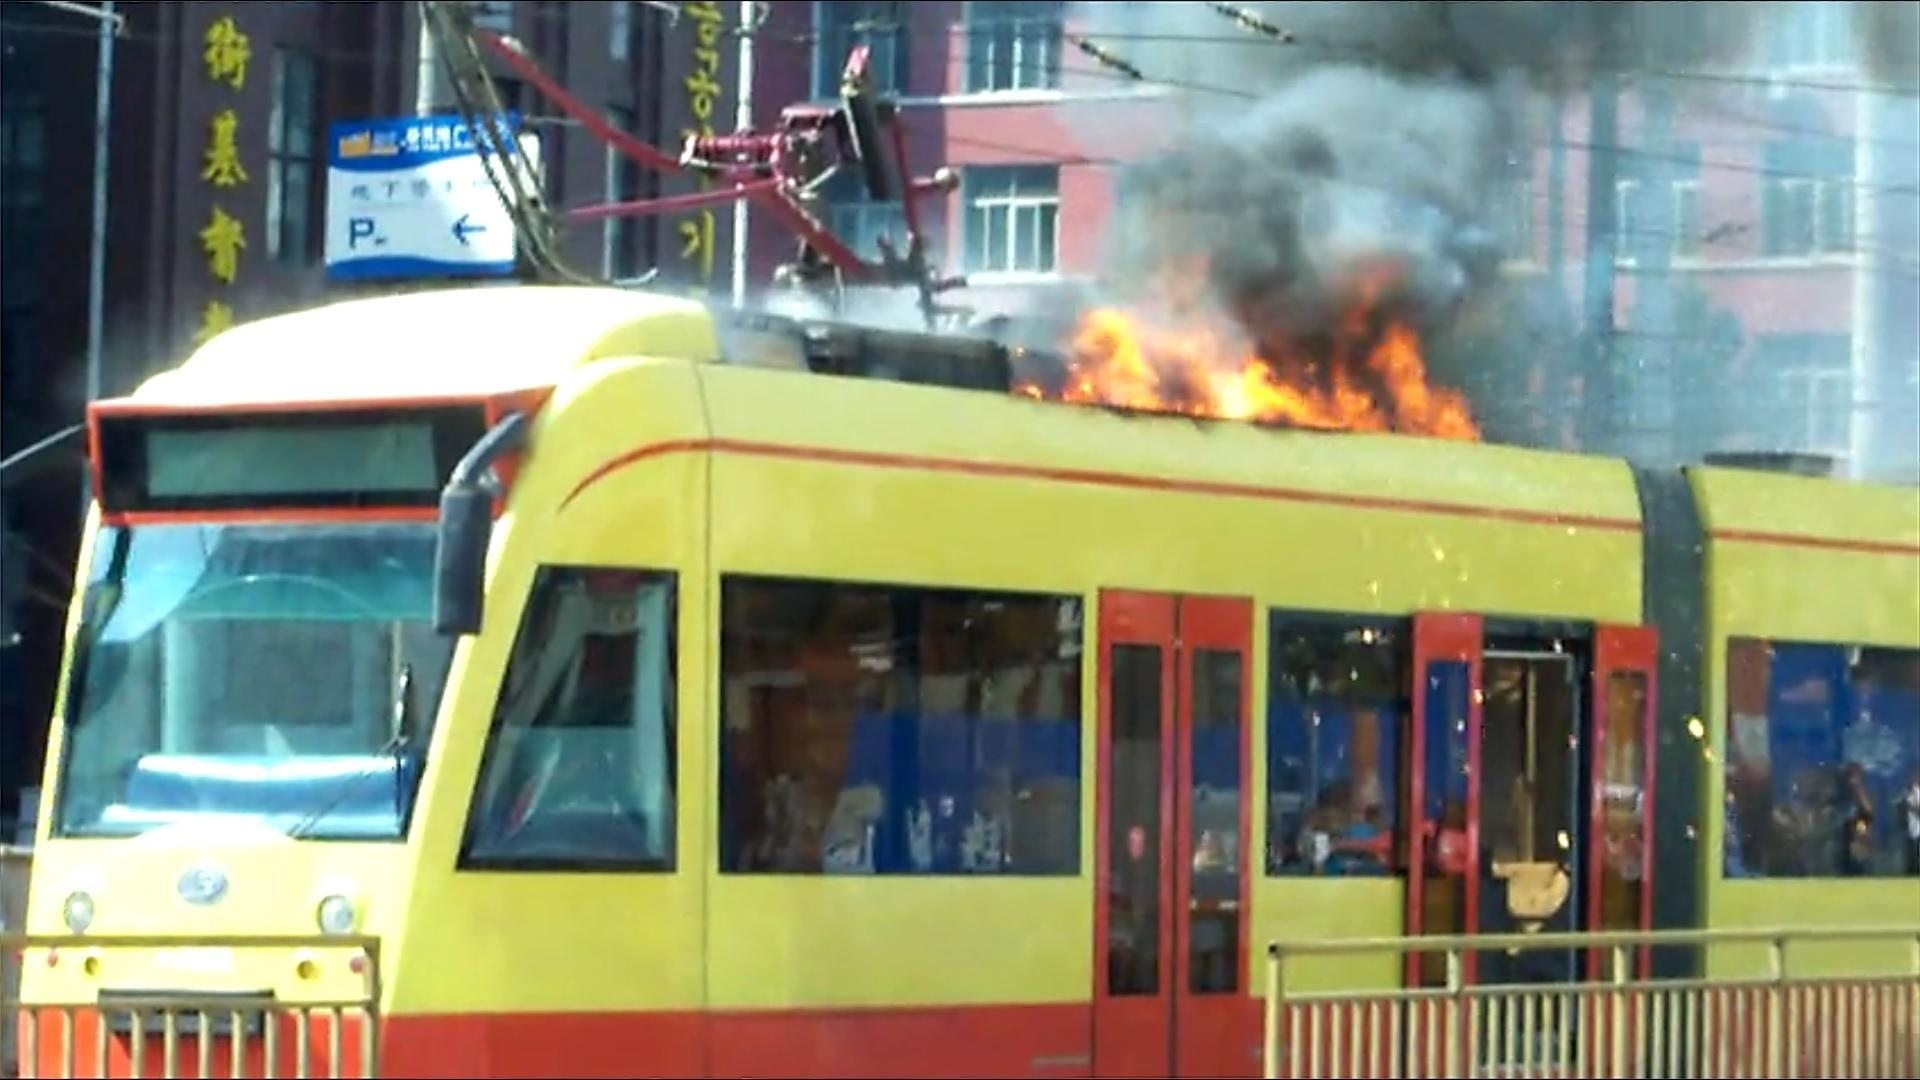fire: (1058, 305, 1490, 433)
